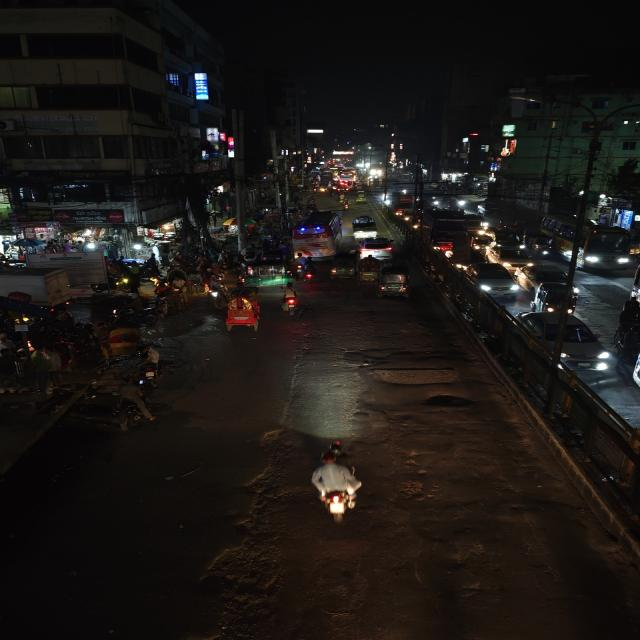bus: (539, 213, 632, 269), (290, 210, 344, 258)
car: (516, 308, 611, 376), (462, 260, 522, 300), (518, 264, 572, 289), (487, 244, 535, 268), (357, 236, 397, 256)
cng: (237, 257, 295, 288), (531, 280, 583, 314), (373, 263, 413, 300), (491, 226, 527, 252), (328, 252, 358, 281), (526, 232, 554, 258), (468, 233, 494, 256)
motorcycle: (304, 438, 370, 528), (110, 295, 170, 329), (132, 345, 169, 390), (277, 282, 302, 314), (294, 254, 319, 283)
pickup_van: (350, 214, 379, 239)
rickshaw: (89, 325, 144, 367), (218, 294, 265, 336), (358, 258, 380, 284)
truck: (419, 208, 474, 260)
